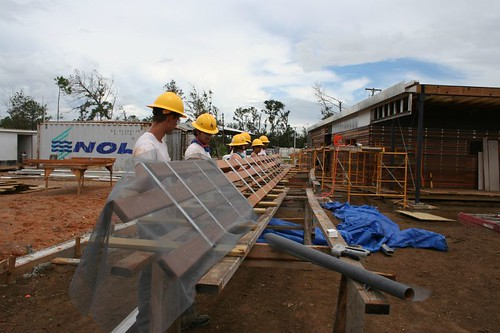person hardhat: (128, 91, 185, 177), (189, 108, 217, 163), (230, 135, 248, 164), (257, 133, 272, 160), (240, 129, 251, 159), (251, 136, 263, 162)
